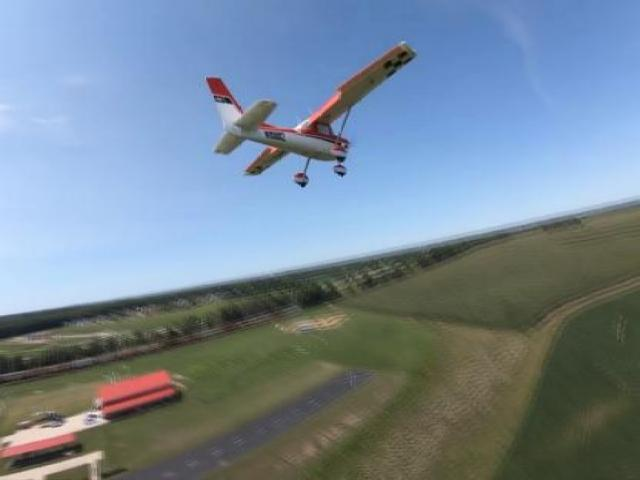uav: (204, 38, 418, 188)
